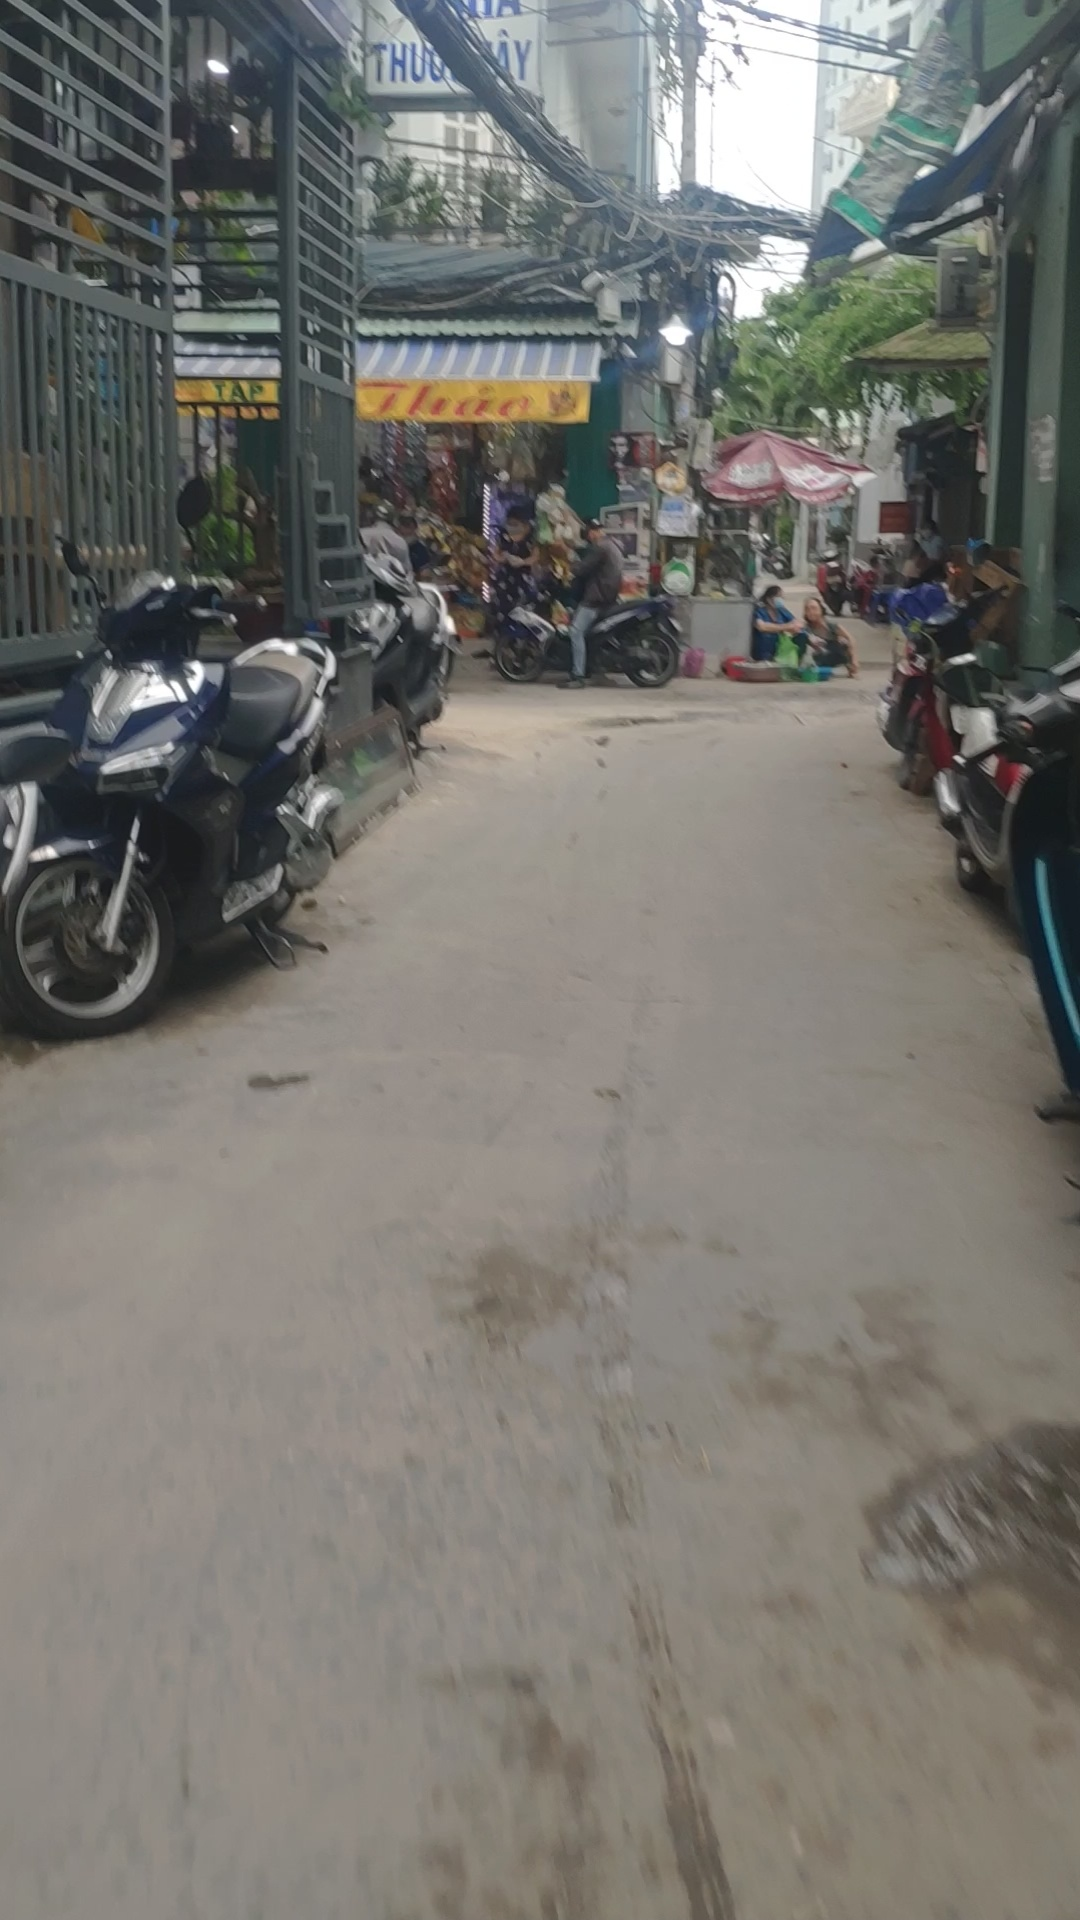hole: (578, 709, 684, 731)
